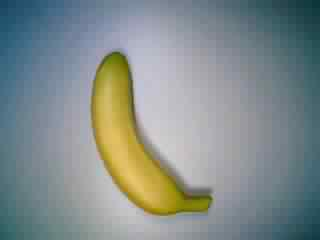banana: (87, 46, 221, 221)
